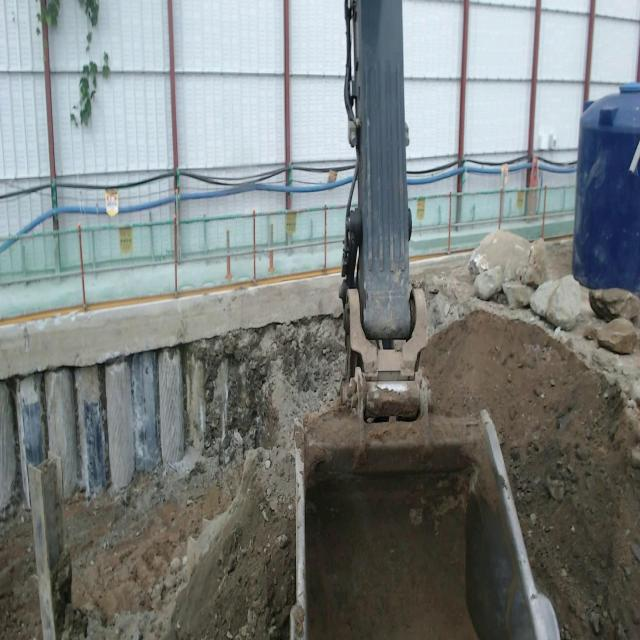red-sand: (422, 310, 640, 639)
stone: (530, 274, 593, 329), (468, 230, 530, 284), (522, 238, 559, 286), (589, 288, 640, 321), (595, 318, 637, 354), (474, 266, 504, 300), (502, 281, 534, 308)
white-sand: (65, 405, 300, 639), (0, 514, 41, 639)
